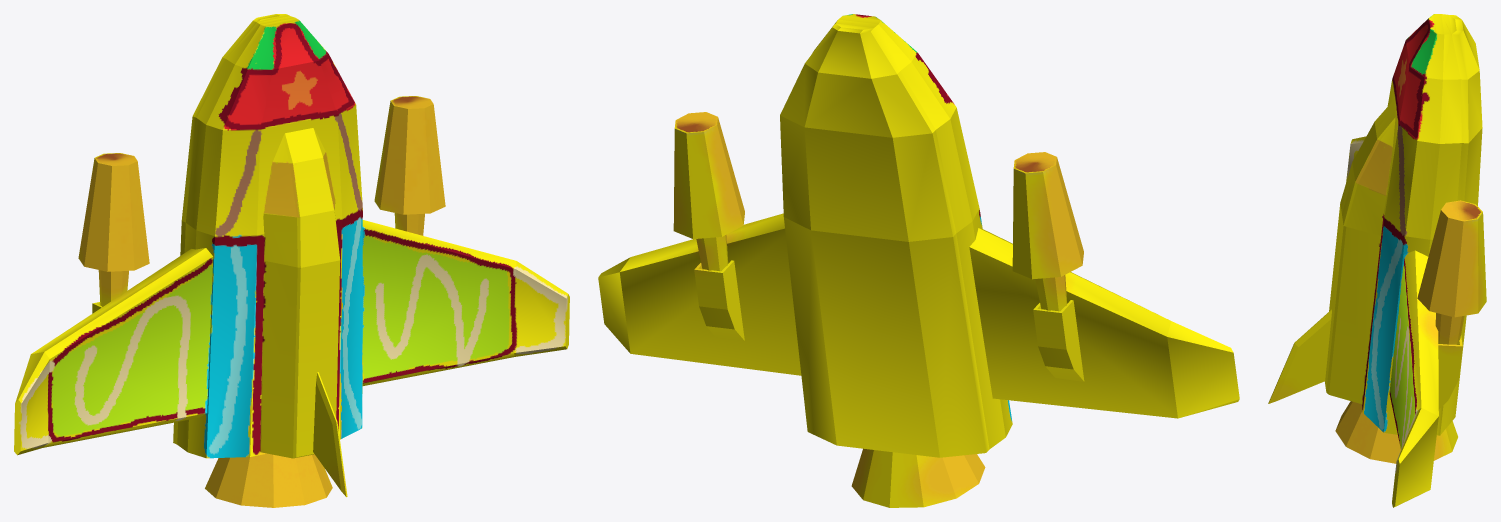
The model's file is PrototypeZero.fbx.
The picture shows the model from 3 angles, left to right: view 1: azimuth 30°, elevation 25°; view 2: azimuth 150°, elevation 25°; view 3: azimuth 270°, elevation 25°; orthographic projection. The views are drawn at different scales.
Parts seen in each view (by area): view 1: node_id18, node_id37, node_id6; view 2: node_id18, node_id37 (×2), node_id6 (×2); view 3: node_id18, node_id6 (×2).
Boxes of the visible parts, x1=… form: node_id18: x1=14, y1=14, x2=569, y2=507; node_id37: x1=78, y1=158, x2=149, y2=313; node_id6: x1=374, y1=101, x2=445, y2=235; node_id18: x1=598, y1=14, x2=1239, y2=507; node_id37 (×2): x1=1012, y1=152, x2=1084, y2=381; node_id6 (×2): x1=673, y1=112, x2=744, y2=341; node_id18: x1=1268, y1=14, x2=1482, y2=507; node_id6 (×2): x1=1417, y1=200, x2=1486, y2=409.
Bounding box in the file's own units: 0.3529 × 0.2608 × 0.1188.
6 materials, 6 textured.
